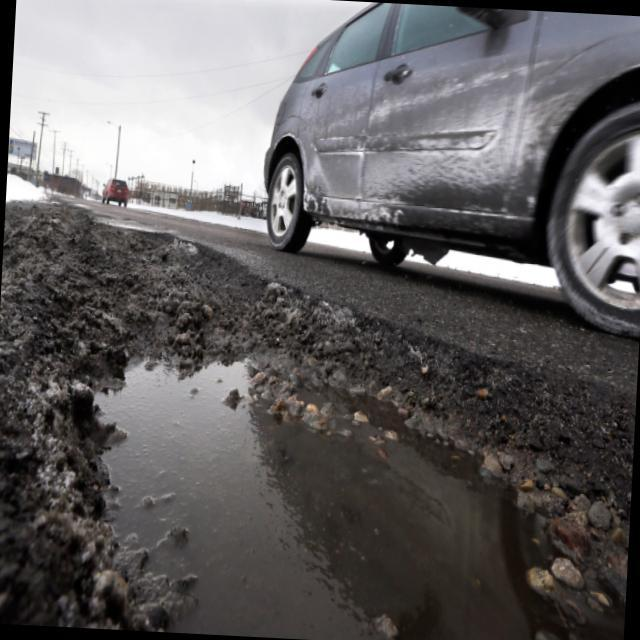Pothole: (59, 299, 550, 640)
